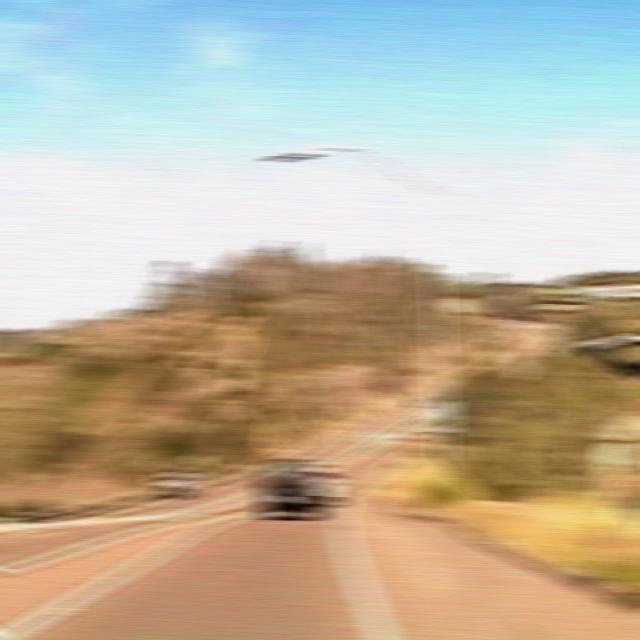speedLimit50: (424, 400, 454, 432)
